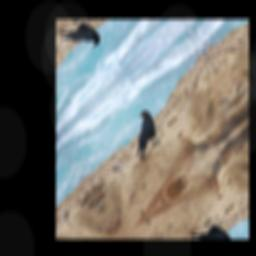Crow: (119, 106, 167, 163)
